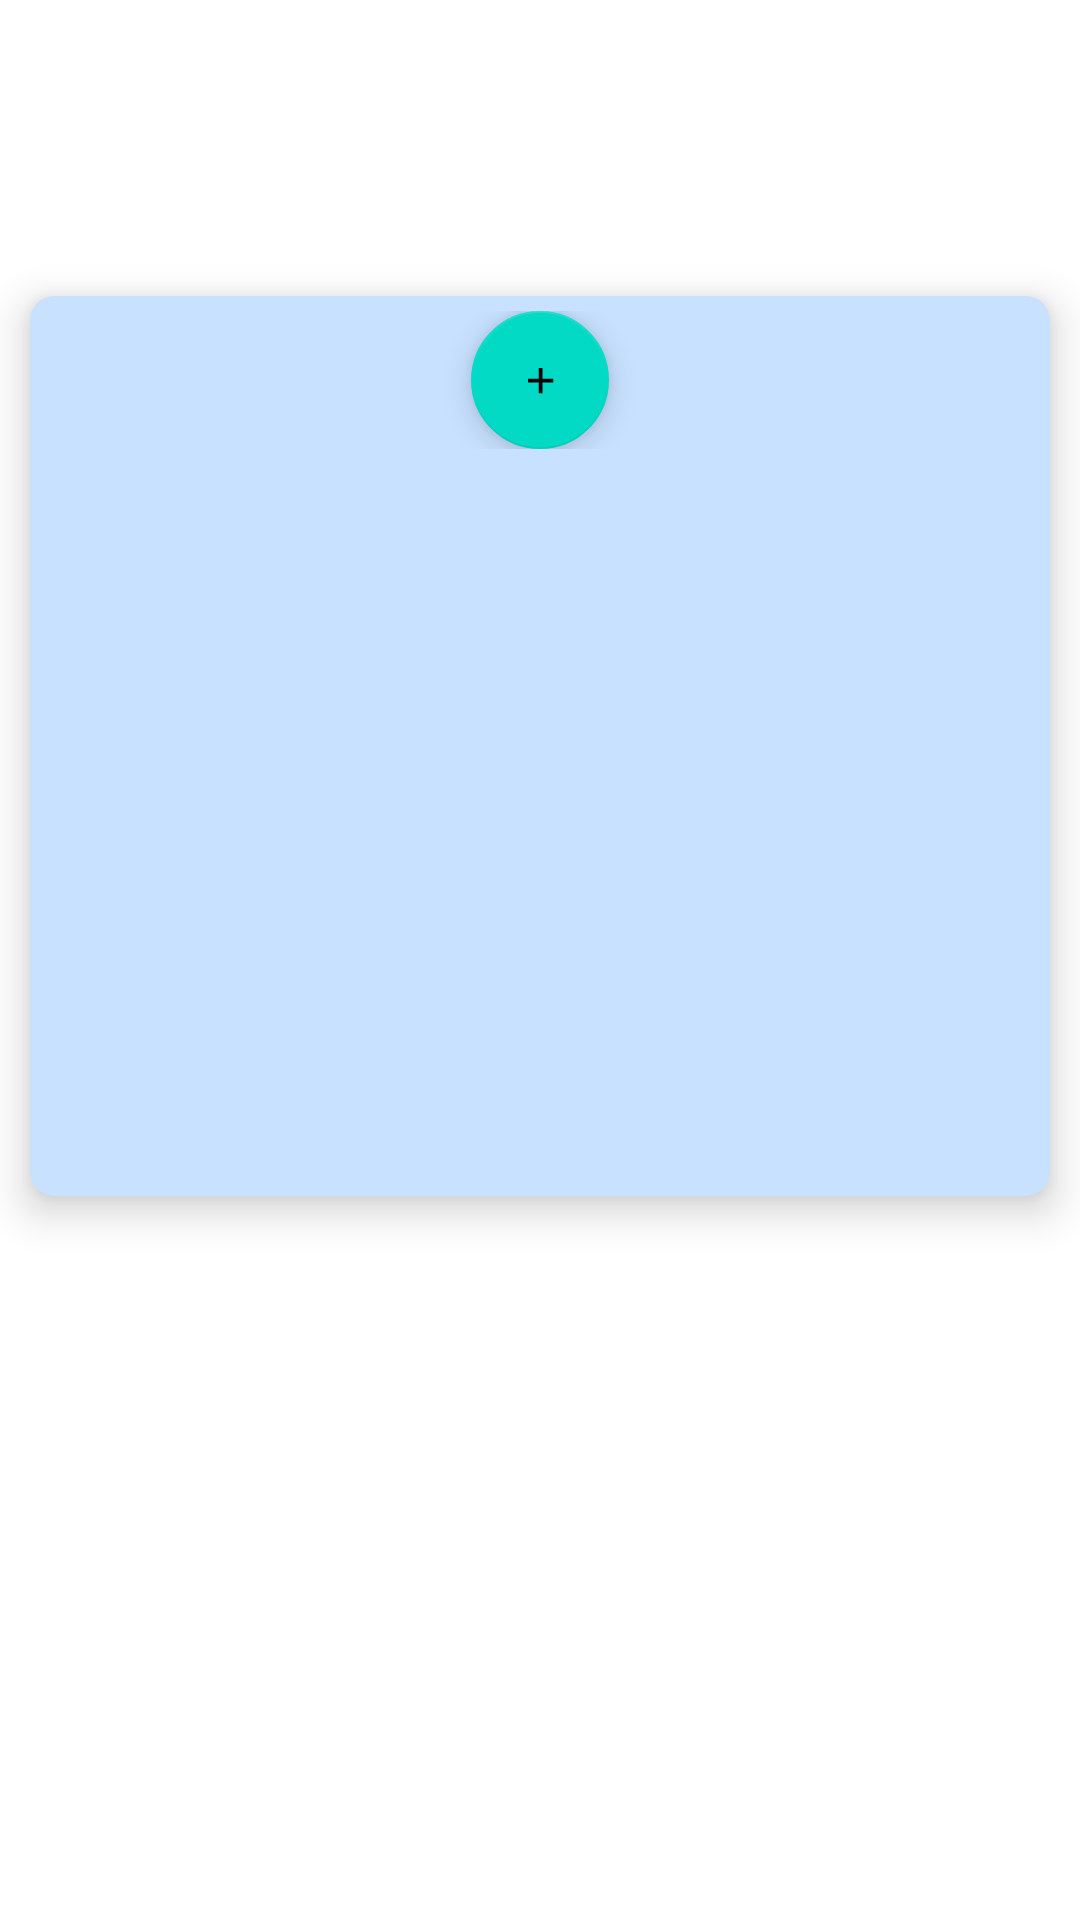

Icon bounding boxes for this 1080 × 1920 phone screenshot, format (x1, y1, x2, y2):
toaddconuitlists: (471, 311, 609, 449)
